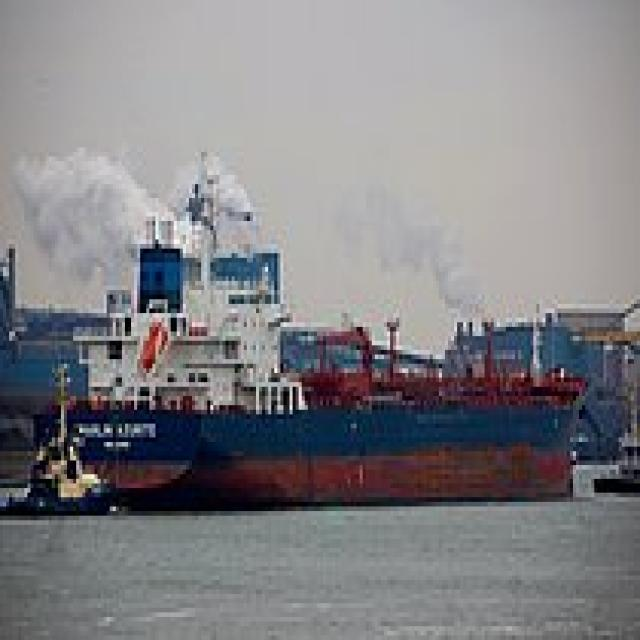Tanker: (28, 147, 588, 502)
